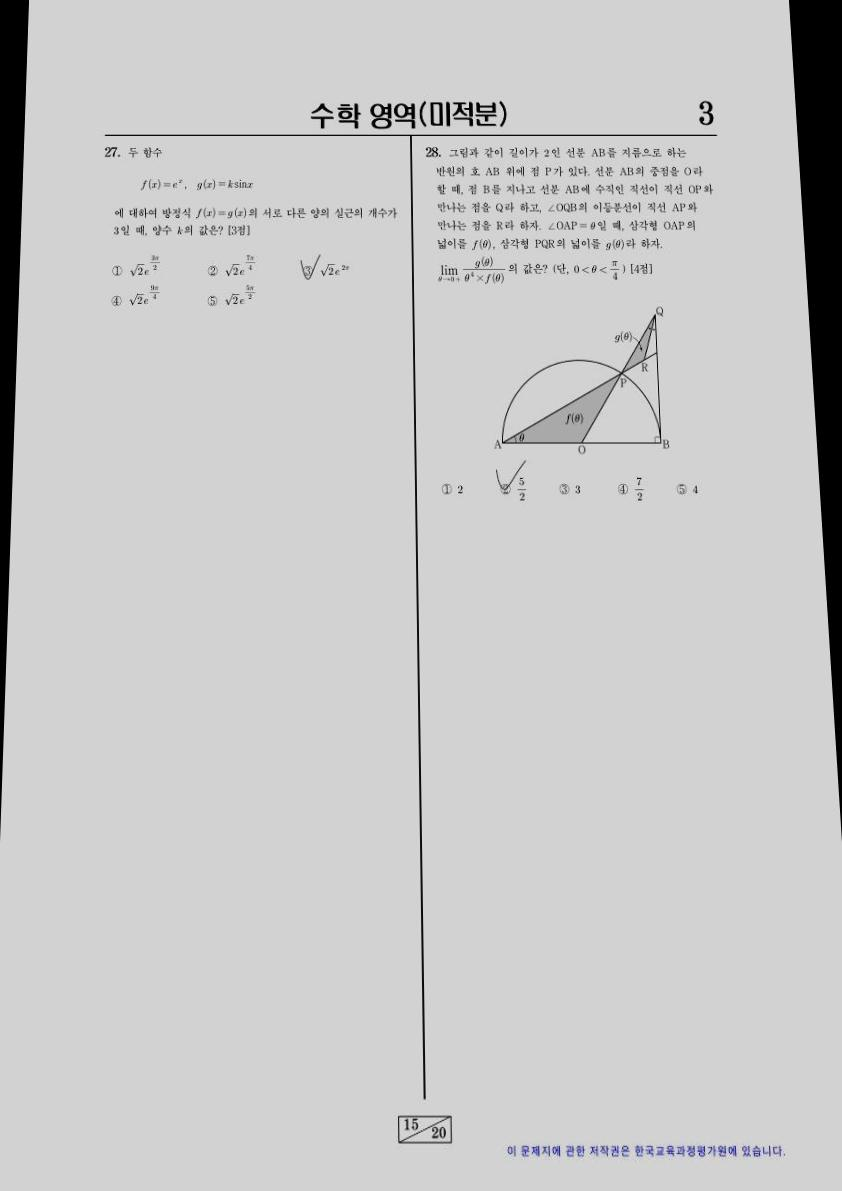question: (416, 141, 725, 523), (85, 139, 410, 320)
